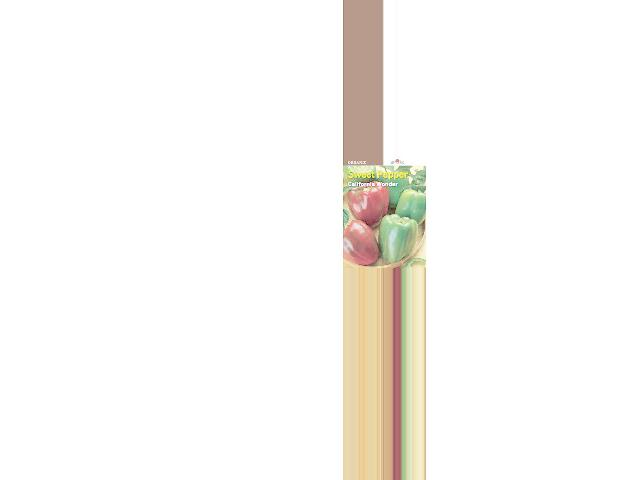bell_pepper: (398, 185, 427, 229)
